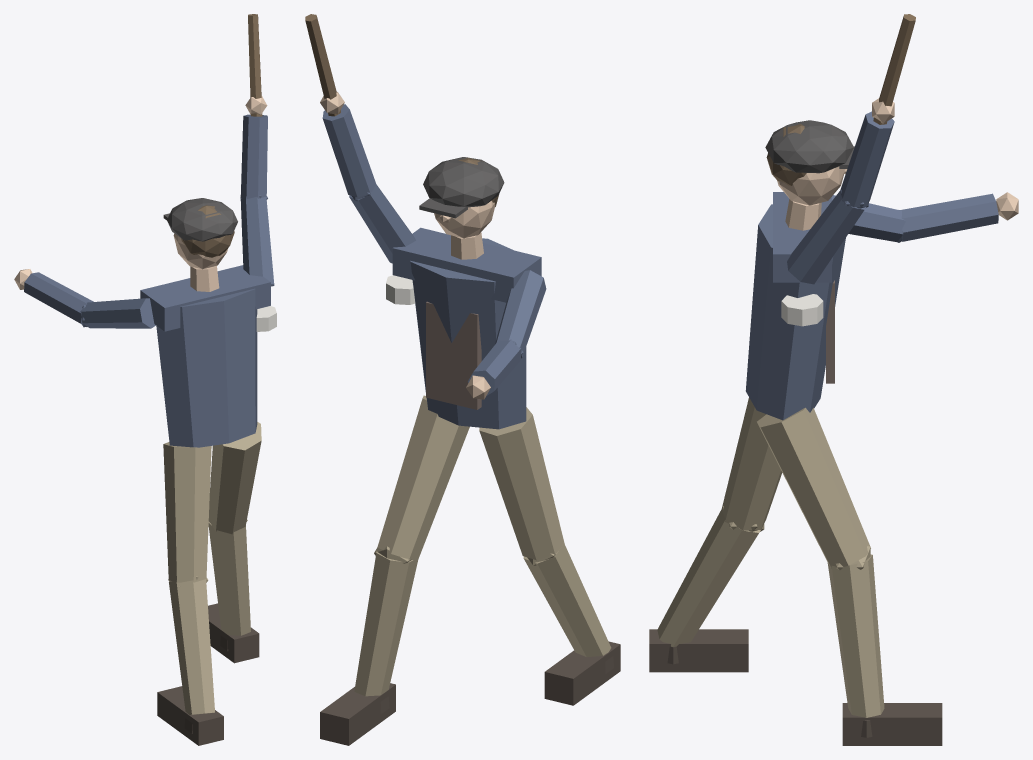
File: special_constable_baton_raised.glb
3 renders of one model, left to right at view 1: azimuth 30°, elevation 25°; view 2: azimuth 150°, elevation 25°; view 3: azimuth 270°, elevation 25°, orthographic. The views are drawn at different scales.
Visible parts, largest first — view 1: wool_navy, moleskin, boot, wool_black, skin, wood_dk, hair, armband; view 2: moleskin, wool_navy, boot, waistcoat, wool_black, skin, wood_dk, armband; view 3: moleskin, wool_navy, boot, wool_black, skin, wood_dk, armband, waistcoat, hair.
Part boxes in pixels (left/top/right/bottom): wool_navy: left=24, top=114, right=274, bottom=447; moleskin: left=163, top=422, right=261, bottom=714; boot: left=157, top=603, right=259, bottom=745; wool_black: left=163, top=198, right=237, bottom=241; skin: left=14, top=96, right=267, bottom=291; wood_dk: left=248, top=14, right=262, bottom=116; hair: left=181, top=205, right=234, bottom=257; armband: left=256, top=306, right=276, bottom=331; moleskin: left=354, top=395, right=611, bottom=696; wool_navy: left=322, top=104, right=546, bottom=429; boot: left=320, top=641, right=620, bottom=745; waistcoat: left=426, top=301, right=481, bottom=409; wool_black: left=419, top=157, right=504, bottom=218; skin: left=320, top=92, right=495, bottom=399; wood_dk: left=305, top=14, right=340, bottom=116; armband: left=386, top=275, right=415, bottom=304; moleskin: left=657, top=397, right=884, bottom=717; wool_navy: left=745, top=111, right=998, bottom=420; boot: left=649, top=629, right=942, bottom=745; wool_black: left=765, top=120, right=854, bottom=173; skin: left=777, top=98, right=1018, bottom=230; wood_dk: left=873, top=14, right=915, bottom=124; armband: left=781, top=294, right=823, bottom=326; waistcoat: left=826, top=280, right=834, bottom=383; hair: left=766, top=124, right=806, bottom=185.
Size of the model in its own units: 0.7555 by 2.23 by 1.
